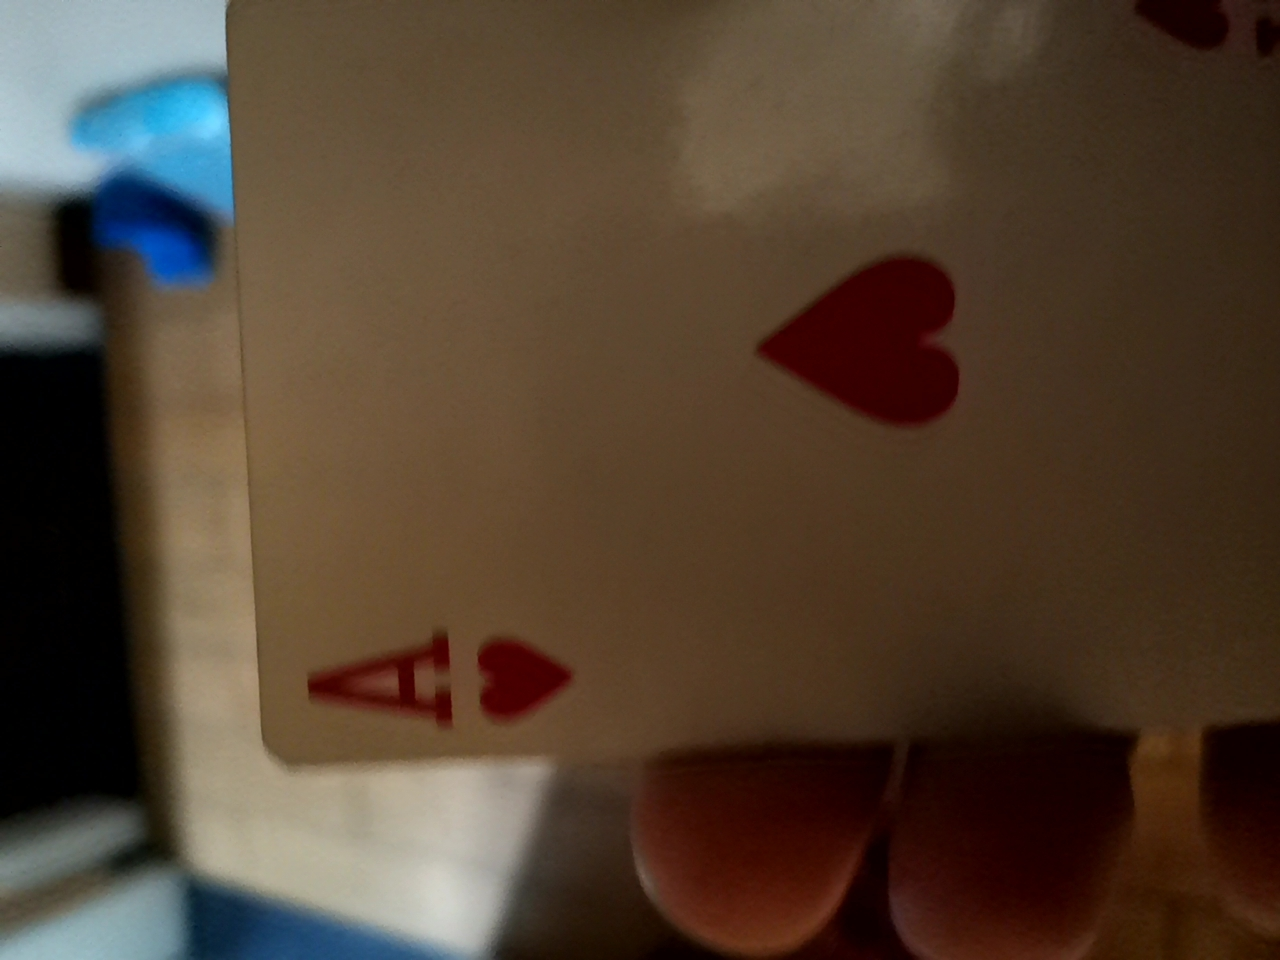hx a: (107, 17, 1270, 898)
